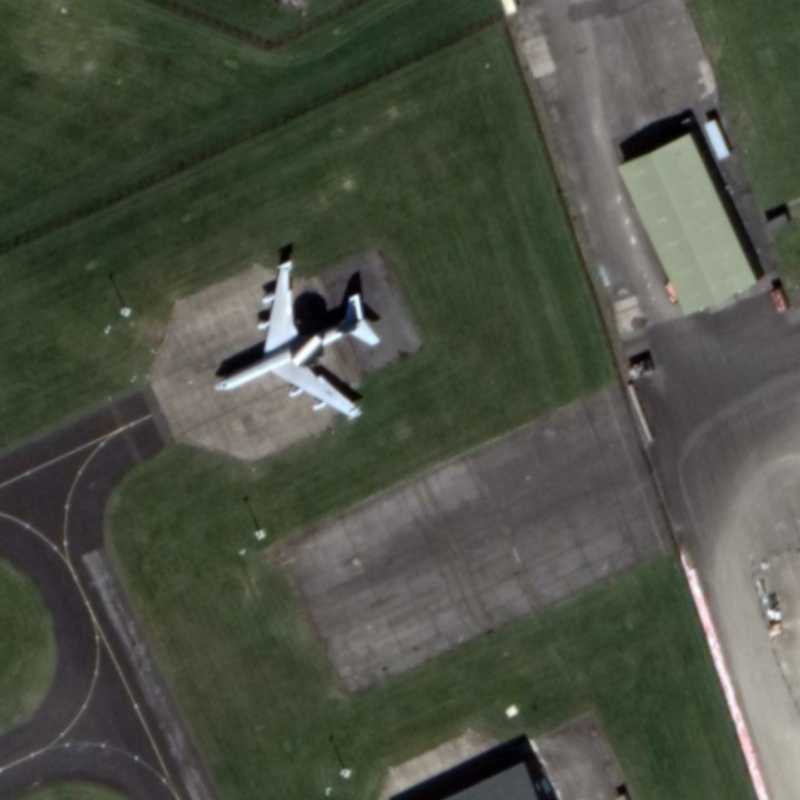A7: (208, 248, 393, 438)
